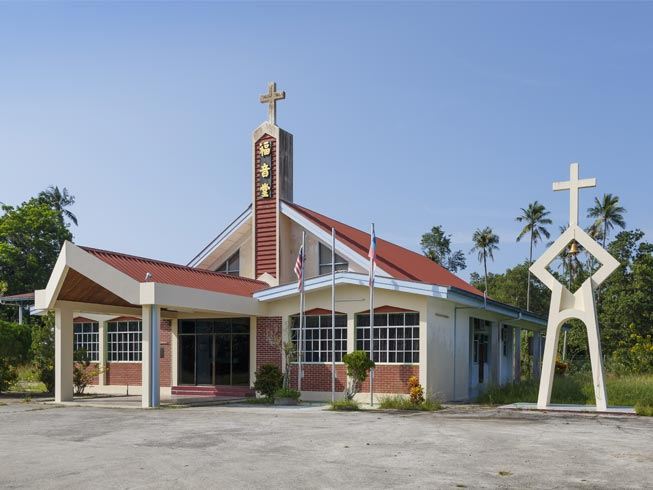Church: (41, 79, 512, 409)
